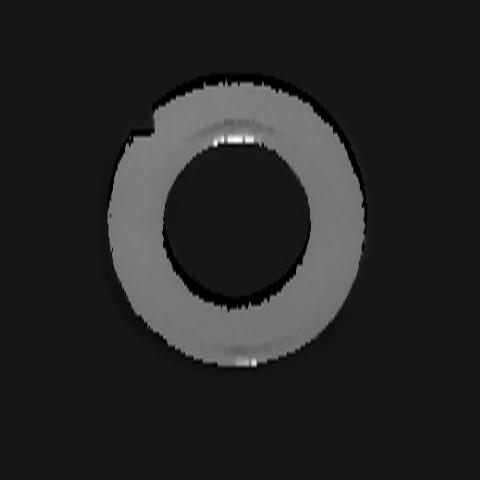defect: (131, 111, 156, 139)
